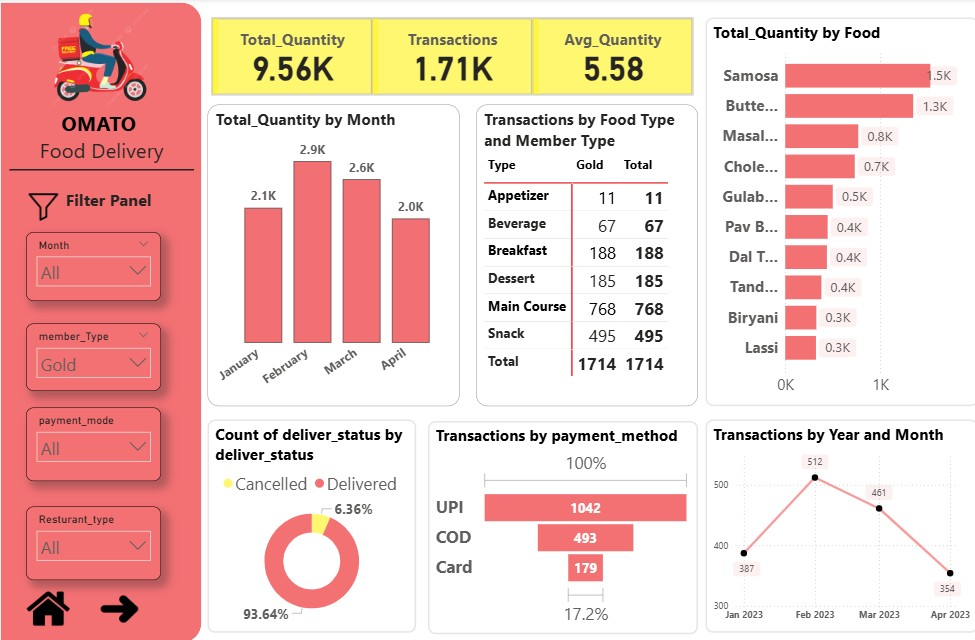

What the dashboard file says about the page in this screenshot:
{"tool":"powerbi","page":{"name":"Original","canvas":[1280,850],"ordinal":0},"visuals":[{"type":"shape","box":[5.9,5.9,262,835],"z":0},{"type":"image","box":[58.7,0,154.5,154.5],"z":1000},{"type":"textbox","box":[23.5,138.8,228.8,91.9],"z":2000},{"type":"shape","box":[17.6,174,240.5,99.7],"z":3000},{"type":"cardVisual","fields":{"Data":["Sales Data.Total_Quantity","Sales Data.Transactions","Sales Data.Avg_Quantity"]},"box":[275.7,25.4,639.5,113.4],"z":4000},{"type":"clusteredColumnChart","fields":{"Y":["Sales Data.Total_Quantity"],"Category":["Sales Data.orderDate.Variation.Date Hierarchy.Month"]},"box":[275.7,138.8,328.5,393.1],"z":5000},{"type":"pivotTable","title":"Transactions by Food Type and Member Type ","fields":{"Rows":["Food_Details.Type"],"Columns":["Customer Details.member_Type"],"Values":["Sales Data.Transactions"]},"box":[625.8,138.8,289.4,393.1],"z":6000},{"type":"donutChart","fields":{"Y":["CountNonNull(Sales Data.deliver_status)"],"Series":["Sales Data.deliver_status"]},"box":[275.7,549.5,271.8,277.7],"z":7000},{"type":"funnel","fields":{"Category":["Sales Data.payment_method"],"Y":["Sales Data.Transactions"]},"box":[563.2,551.5,352,277.7],"z":8000},{"type":"clusteredBarChart","fields":{"Y":["Sales Data.Total_Quantity"],"Category":["Food_Details.Food"]},"box":[925,25.4,355.9,506.5],"z":9000},{"type":"lineChart","fields":{"Y":["Sales Data.Transactions"],"Category":["Sales Data.orderDate.Variation.Date Hierarchy.Year","Sales Data.orderDate.Variation.Date Hierarchy.Month"]},"box":[925,550,355,278],"z":10000},{"type":"slicer","fields":{"Values":["Sales Data.orderDate.Variation.Date Hierarchy.Month"]},"box":[39.1,305.1,176,90],"z":11000},{"type":"slicer","fields":{"Values":["Customer Details.member_Type"]},"box":[39.1,424.4,176,88],"z":12000},{"type":"slicer","fields":{"Values":["Sales Data.payment_method"]},"box":[39.1,533.9,176,95.8],"z":13000},{"type":"slicer","fields":{"Values":["Resturant_Details.Resturant_type"]},"box":[39.1,662.9,176,95.8],"z":14000},{"type":"image","box":[37.2,242.5,48.9,60.6],"z":15000},{"type":"textbox","box":[86,242.5,152.5,39.1],"z":16000},{"type":"image","box":[23.5,762.7,90,66.5],"z":17000},{"type":"image","box":[107.6,747,111.5,97.8],"z":18000}]}

Visuals, with their boxes in screenshot pixels (x1, y1, x2, y2), scaled from the page's 1280x850 canvas onto the 975x640 screenshot:
shape: bbox=(4, 4, 204, 633)
image: bbox=(45, 0, 162, 116)
textbox: bbox=(18, 105, 192, 174)
shape: bbox=(13, 131, 197, 206)
cardVisual - Sales Data.Total_Quantity x Sales Data.Transactions: bbox=(210, 19, 697, 105)
clusteredColumnChart - Sales Data.Total_Quantity x Sales Data.orderDate.Variation.Date Hierarchy.Month: bbox=(210, 105, 460, 400)
"Transactions by Food Type and Member Type " pivotTable: bbox=(477, 105, 697, 400)
donutChart - CountNonNull(Sales Data.deliver_status) x Sales Data.deliver_status: bbox=(210, 414, 417, 623)
funnel - Sales Data.payment_method x Sales Data.Transactions: bbox=(429, 415, 697, 624)
clusteredBarChart - Sales Data.Total_Quantity x Food_Details.Food: bbox=(705, 19, 974, 400)
lineChart - Sales Data.Transactions x Sales Data.orderDate.Variation.Date Hierarchy.Year: bbox=(705, 414, 974, 623)
slicer - Sales Data.orderDate.Variation.Date Hierarchy.Month: bbox=(30, 230, 164, 297)
slicer - Customer Details.member_Type: bbox=(30, 320, 164, 386)
slicer - Sales Data.payment_method: bbox=(30, 402, 164, 474)
slicer - Resturant_Details.Resturant_type: bbox=(30, 499, 164, 571)
image: bbox=(28, 183, 66, 228)
textbox: bbox=(66, 183, 182, 212)
image: bbox=(18, 574, 86, 624)
image: bbox=(82, 562, 167, 636)
